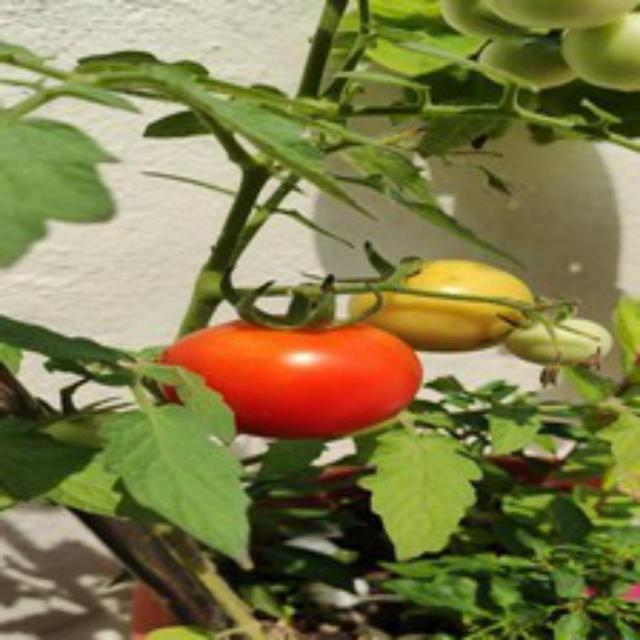tomato: (158, 301, 422, 445)
